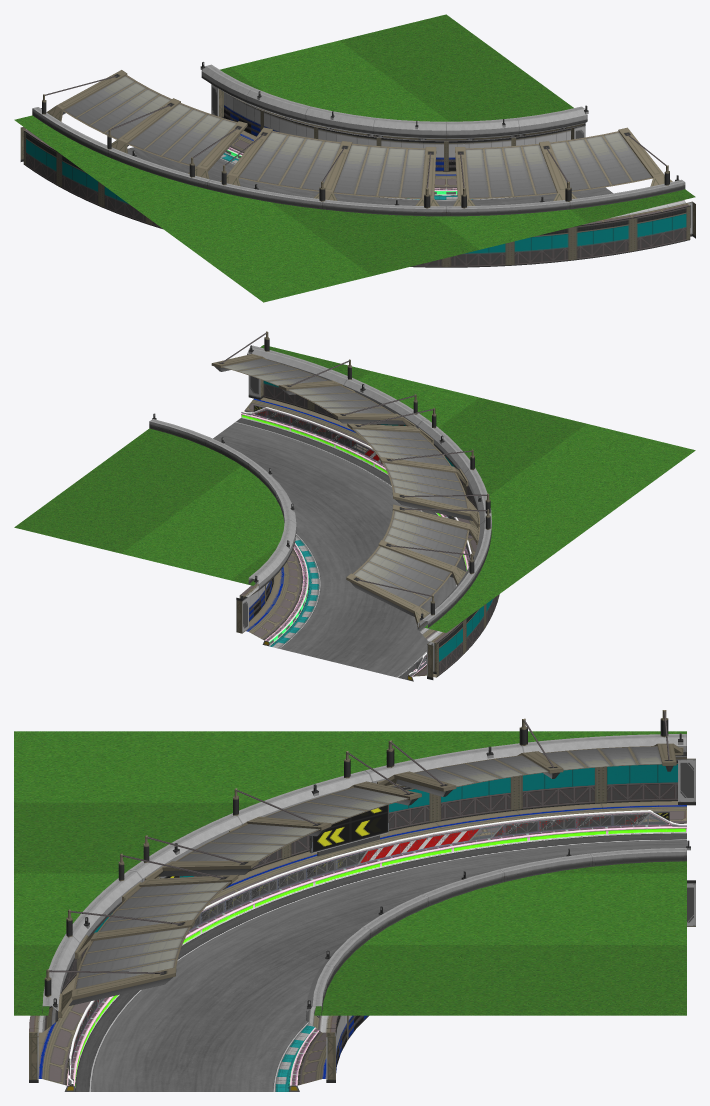
The model's file is T5 - Left.fbx.
The picture shows the model from 3 angles, top to bottom: view 1: azimuth 30°, elevation 25°; view 2: azimuth 150°, elevation 25°; view 3: azimuth 270°, elevation 25°; orthographic projection. The views are drawn at different scales.
Parts seen in each view (by area): view 1: standard_ground_grass2, trenchwalls, arch_half_8, arch_half_7, arch_half_6, drift_road; view 2: standard_ground_grass2, drift_road, trenchwalls, arch_half_6, arch_half_8, arch_half_7, standard_arrow_left; view 3: standard_ground_grass2, trenchwalls, drift_road, arch_half_7, arch_half_8, standard_arrow_left, arch_half_6, prop_billboard_left.
Part boxes in pixels (x1,y1,x2,y2): standard_ground_grass2: [14, 14, 695, 302]; trenchwalls: [20, 64, 695, 267]; arch_half_8: [220, 127, 439, 208]; arch_half_7: [453, 127, 672, 208]; arch_half_6: [42, 70, 247, 179]; drift_road: [127, 147, 612, 206]; standard_ground_grass2: [14, 345, 695, 632]; drift_road: [213, 418, 466, 679]; trenchwalls: [149, 345, 499, 681]; arch_half_6: [346, 504, 490, 627]; arch_half_8: [347, 407, 490, 527]; arch_half_7: [211, 331, 417, 426]; standard_arrow_left: [241, 405, 471, 675]; standard_ground_grass2: [14, 731, 686, 1015]; trenchwalls: [29, 734, 695, 1091]; drift_road: [75, 833, 686, 1091]; arch_half_7: [44, 853, 238, 1017]; arch_half_8: [143, 751, 421, 880]; standard_arrow_left: [68, 810, 686, 1085]; arch_half_6: [377, 710, 683, 796]; prop_billboard_left: [309, 804, 388, 856].
Bounding box in the file's own units: 12969 × 2380 × 12970.
